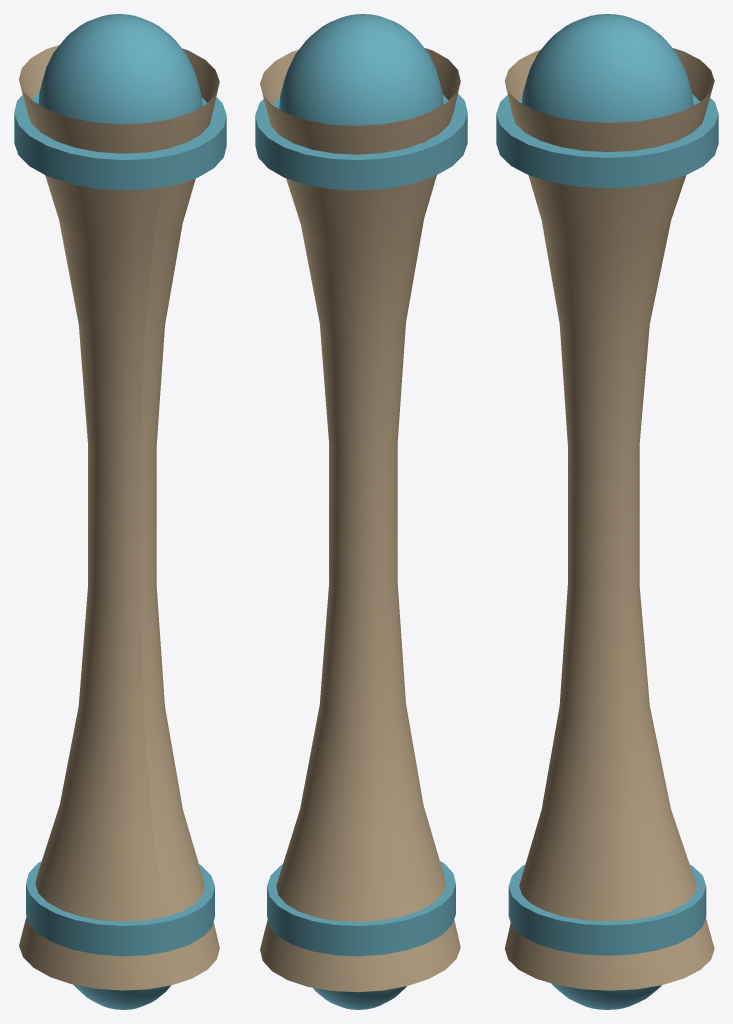
Rendered from right_metacarpal_4.glb.
3 views of the same model, side by side, from view 1: azimuth 30°, elevation 25°; view 2: azimuth 150°, elevation 25°; view 3: azimuth 270°, elevation 25° (orthographic).
Visible parts, largest first — view 1: right_metacarpal_4:diaphysis, right_metacarpal_4:proximal-envelope, right_metacarpal_4:proximal-epiphyseal-plate, right_metacarpal_4:distal-epiphyseal-plate, right_metacarpal_4:distal-envelope; view 2: right_metacarpal_4:diaphysis, right_metacarpal_4:proximal-envelope, right_metacarpal_4:proximal-epiphyseal-plate, right_metacarpal_4:distal-epiphyseal-plate, right_metacarpal_4:distal-envelope; view 3: right_metacarpal_4:diaphysis, right_metacarpal_4:proximal-envelope, right_metacarpal_4:proximal-epiphyseal-plate, right_metacarpal_4:distal-epiphyseal-plate, right_metacarpal_4:distal-envelope.
Boxes of the visible parts, box(x1,y1,x2,y2) form: right_metacarpal_4:diaphysis: box(19, 44, 219, 990); right_metacarpal_4:proximal-envelope: box(38, 14, 202, 124); right_metacarpal_4:proximal-epiphyseal-plate: box(14, 92, 226, 190); right_metacarpal_4:distal-epiphyseal-plate: box(26, 861, 214, 956); right_metacarpal_4:distal-envelope: box(73, 984, 170, 1009); right_metacarpal_4:diaphysis: box(260, 48, 460, 992); right_metacarpal_4:proximal-envelope: box(279, 14, 443, 125); right_metacarpal_4:proximal-epiphyseal-plate: box(255, 93, 467, 190); right_metacarpal_4:distal-epiphyseal-plate: box(267, 861, 455, 956); right_metacarpal_4:distal-envelope: box(313, 986, 406, 1009); right_metacarpal_4:diaphysis: box(504, 48, 714, 990); right_metacarpal_4:proximal-envelope: box(521, 14, 693, 122); right_metacarpal_4:proximal-epiphyseal-plate: box(496, 94, 718, 188); right_metacarpal_4:distal-epiphyseal-plate: box(508, 864, 706, 955); right_metacarpal_4:distal-envelope: box(551, 983, 661, 1009).
Size of the model in its own units: 0.0416 by 0.2156 by 0.0441.
